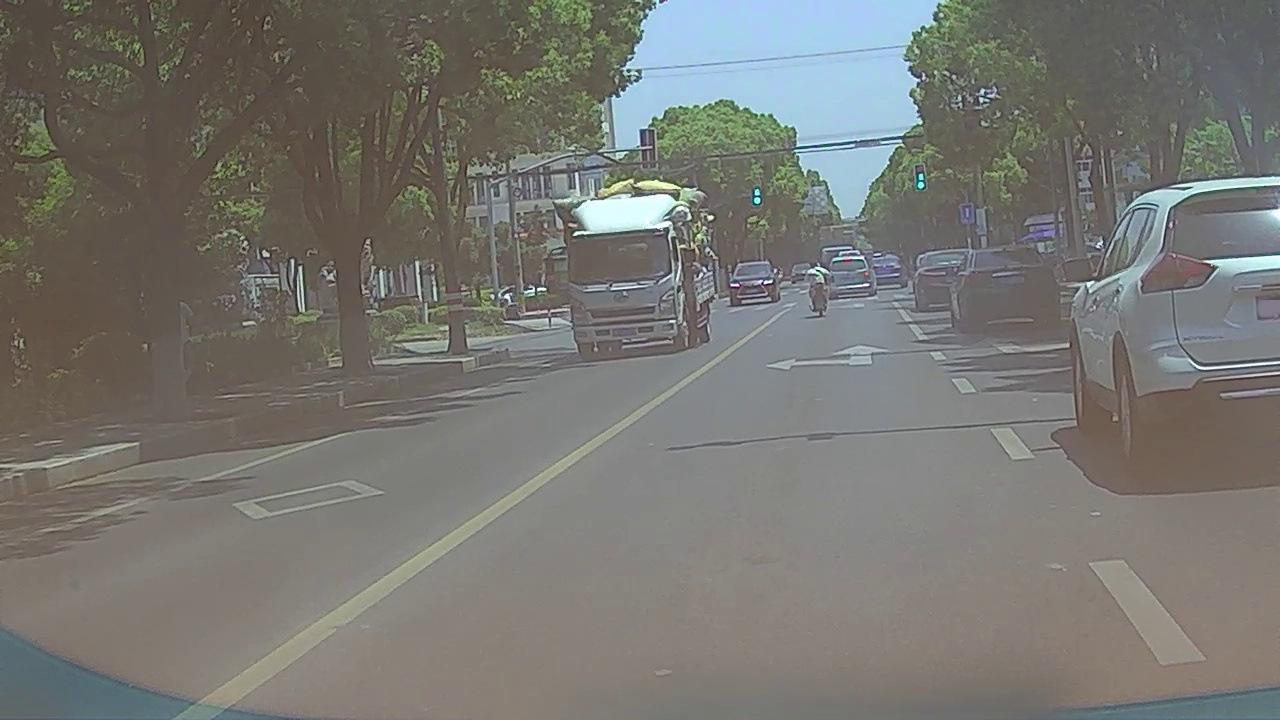traffic_light: (914, 165, 927, 192), (751, 185, 762, 205)
